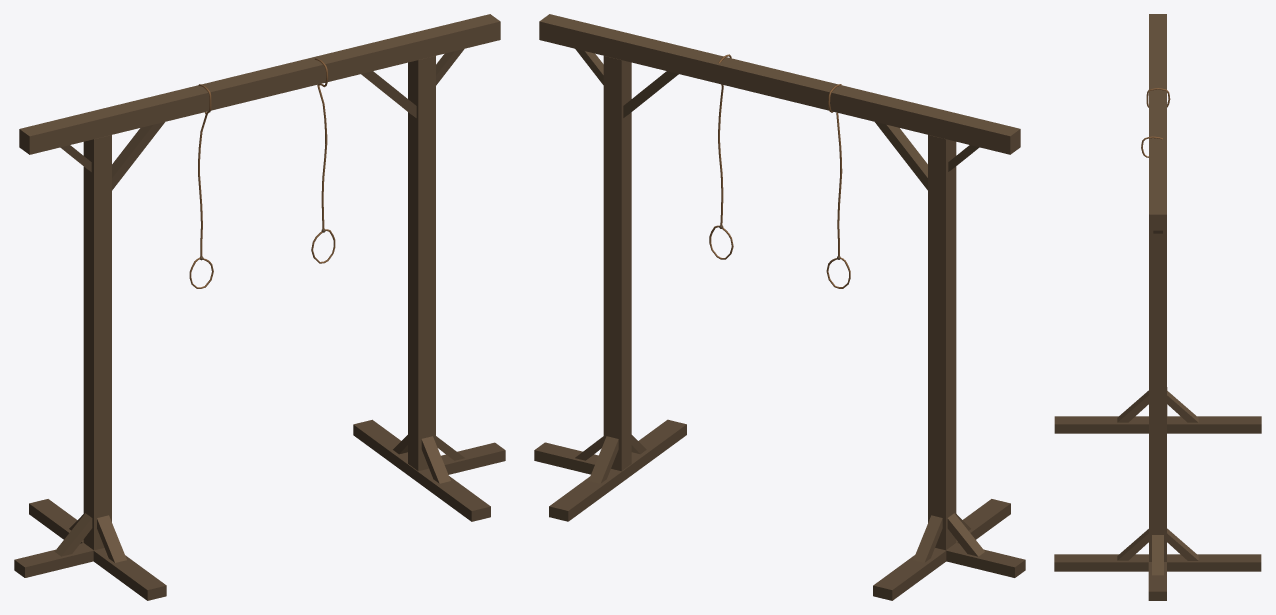
The model's file is Gallows.glb.
3 renders of one model, left to right at view 1: azimuth 30°, elevation 25°; view 2: azimuth 150°, elevation 25°; view 3: azimuth 270°, elevation 25°, orthographic. The views are drawn at different scales.
Parts seen in each view (by area): view 1: torture_device_005; view 2: torture_device_005; view 3: torture_device_005.
Boxes of the visible parts, x1,y1,x2,y2 form: torture_device_005: [14, 14, 505, 600]; torture_device_005: [534, 14, 1025, 600]; torture_device_005: [1054, 14, 1261, 600].
Bounding box in the file's own units: 5.39 × 4.75 × 2.3.
